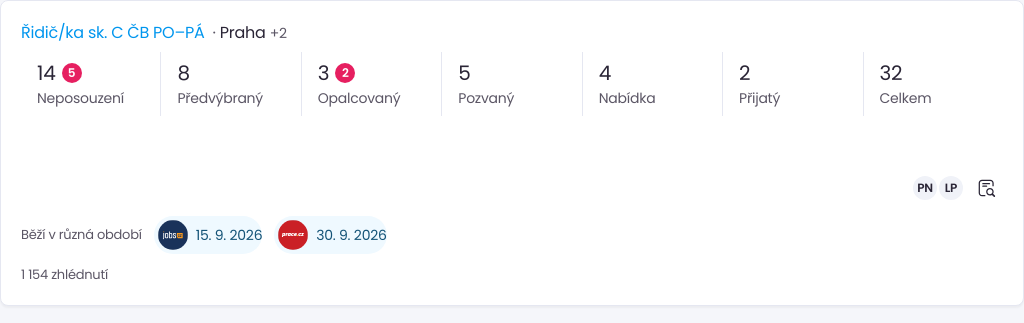
Scenario: JobCardSimplify5 › shows branch inline after the title with +N for extra branches
expect the element with test id "job-card-branch-inline" shows "Praha": met, box [220,21,266,44]
Hover over the element with test id "job-card-branch-inline" at coordinates (250, 33), box [213,21,287,44]
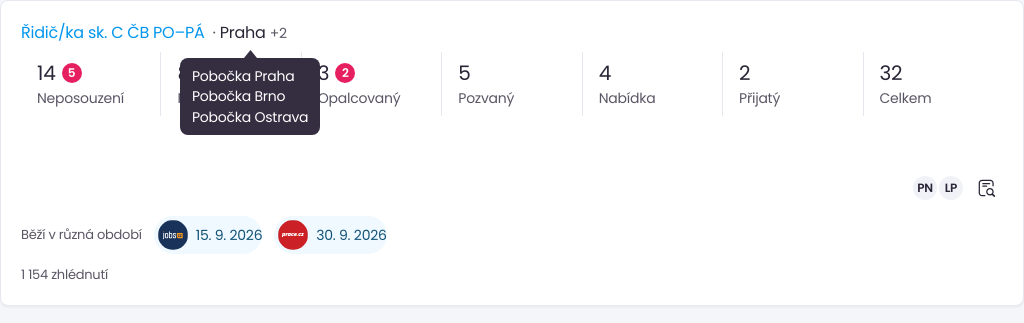
expect the text "Pobočka Brno" is shown: met, box [192,86,285,106]
